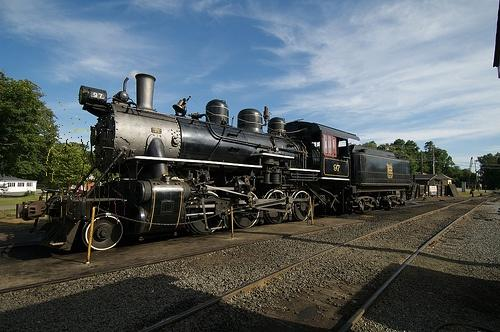tampered: (44, 99, 130, 267)
